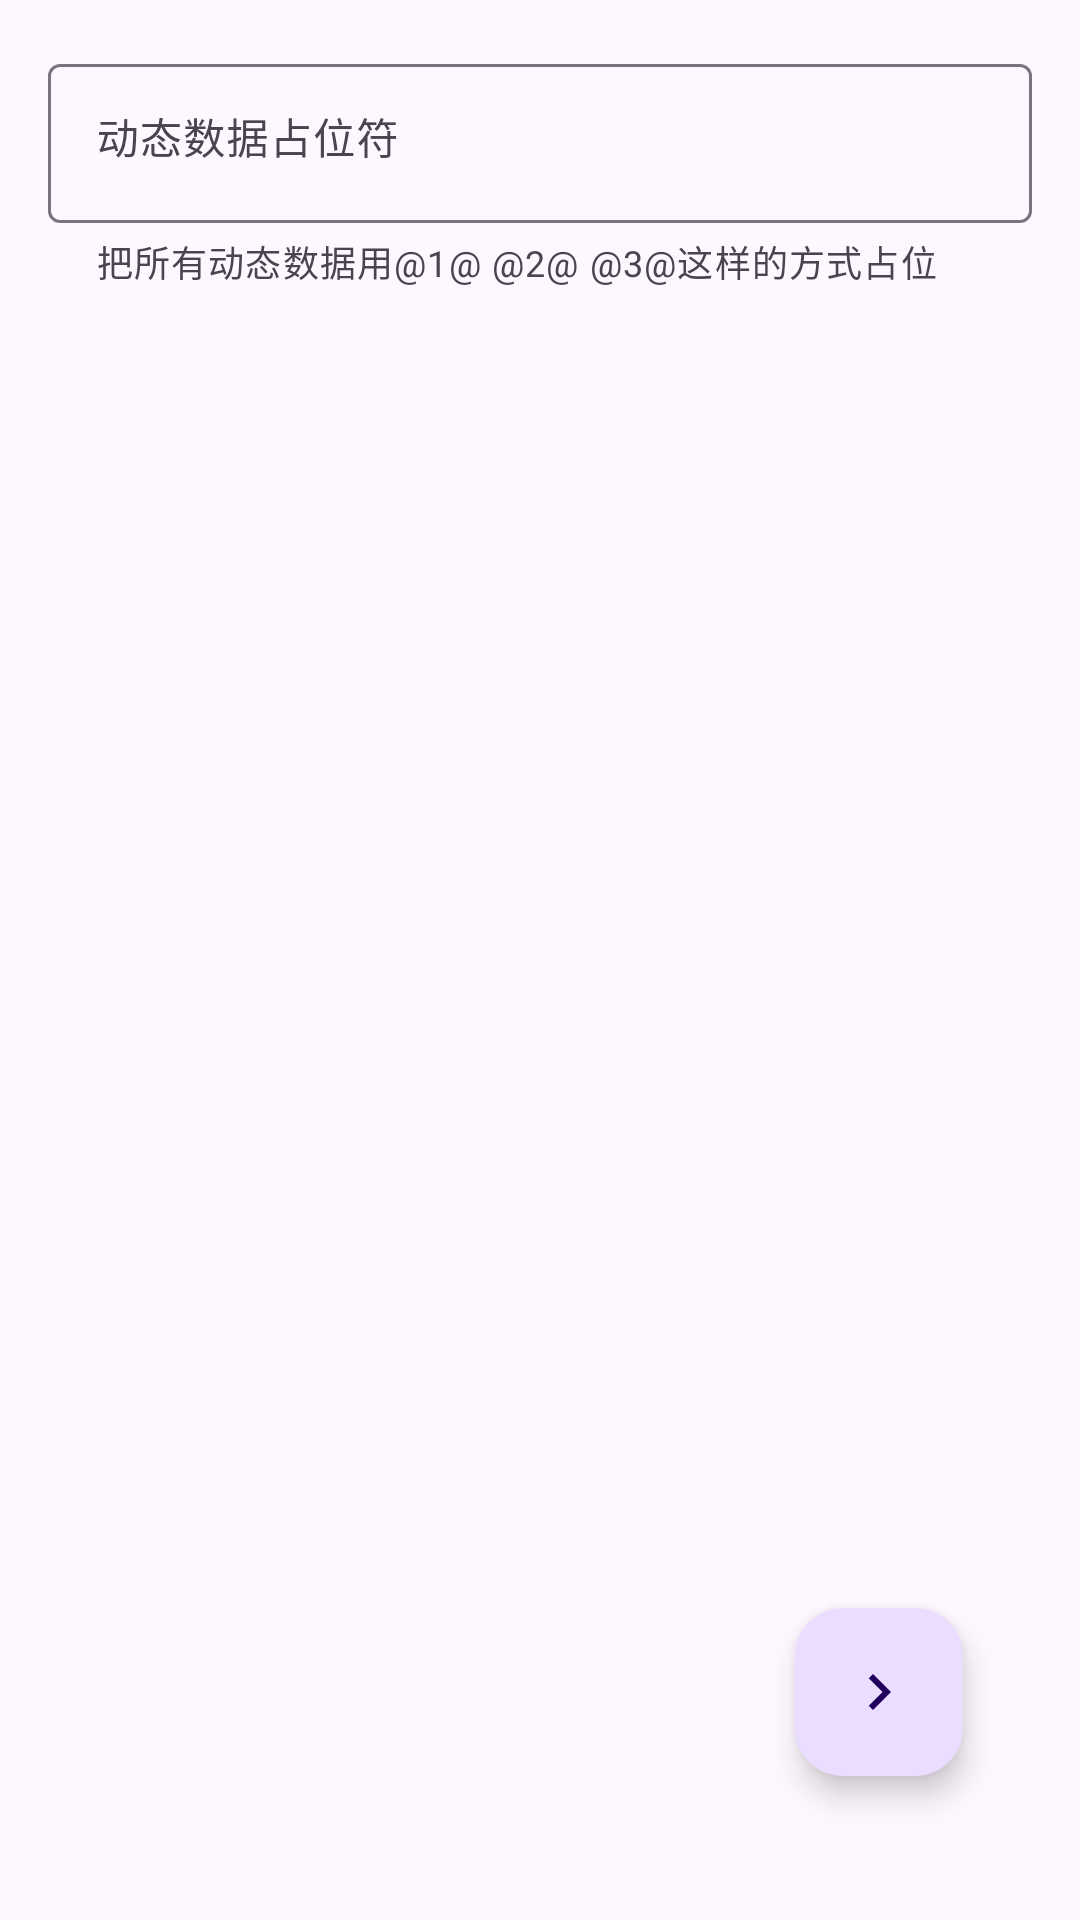

Where to tap for icons on this 1080 × 1920 app screen, as (x=x, y=y):
下一页: (x=879, y=1692)
